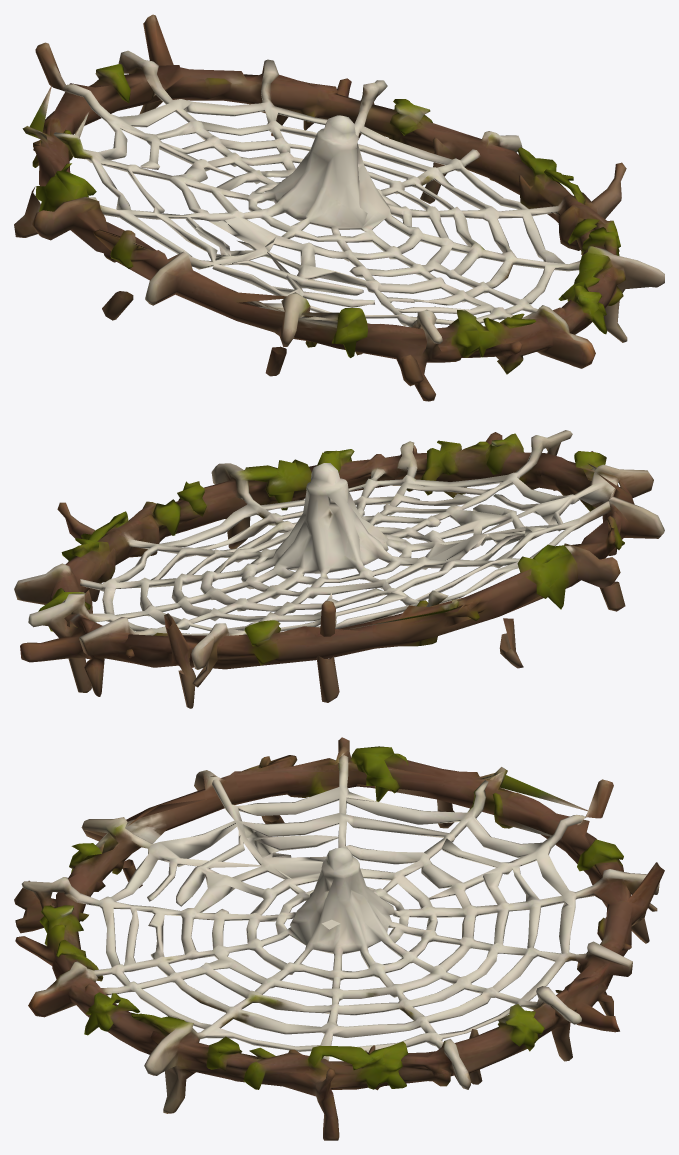
3 renders of one model, top to bottom at view 1: azimuth 30°, elevation 25°; view 2: azimuth 150°, elevation 25°; view 3: azimuth 270°, elevation 25°, orthographic. The views are drawn at different scales.
Visible parts, largest first — view 1: tripo_node_af652bb4-c93a-4102-ba9a-af30483a7c5c; view 2: tripo_node_af652bb4-c93a-4102-ba9a-af30483a7c5c; view 3: tripo_node_af652bb4-c93a-4102-ba9a-af30483a7c5c.
Part boxes in pixels (box(x1,y1,x2,y2)): tripo_node_af652bb4-c93a-4102-ba9a-af30483a7c5c: box(14, 14, 664, 401); tripo_node_af652bb4-c93a-4102-ba9a-af30483a7c5c: box(14, 430, 664, 708); tripo_node_af652bb4-c93a-4102-ba9a-af30483a7c5c: box(14, 737, 664, 1140).
Bounding box in the file's own units: 0.9374 × 0.3151 × 0.998.
1 material, 1 textured.
